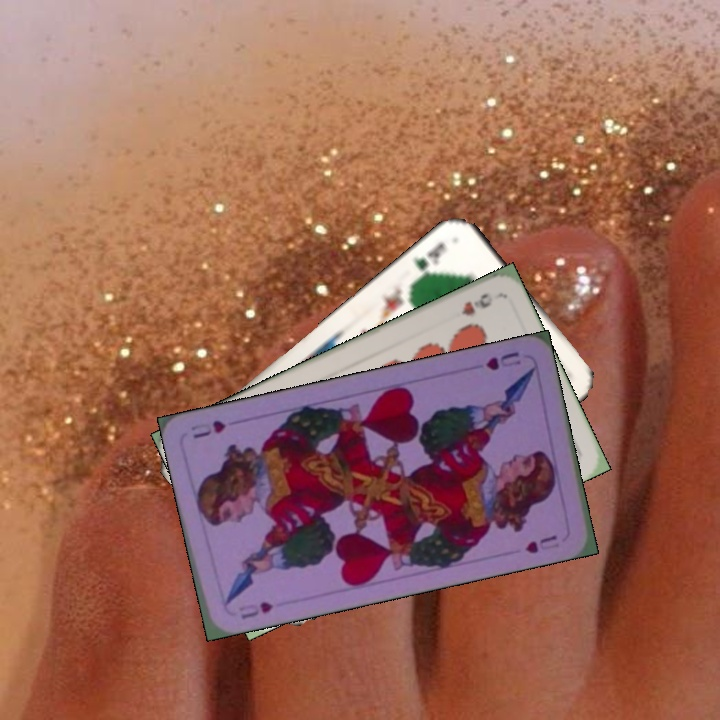GK: (409, 238, 450, 285)
H9: (457, 289, 496, 319)
HU: (482, 347, 523, 373), (237, 597, 277, 622)
